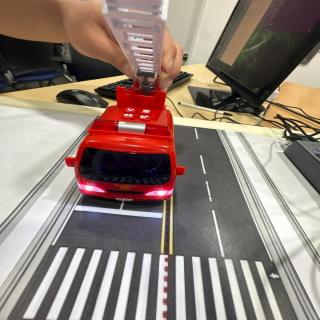Fire_truck: (65, 85, 185, 201)
